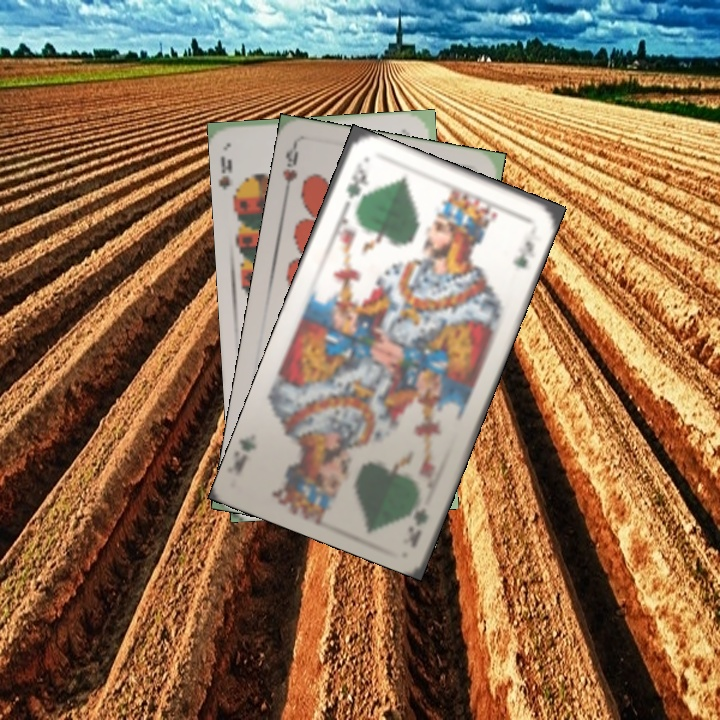GK: (341, 157, 369, 212), (405, 503, 431, 550)
H9: (278, 141, 301, 200)
S9: (217, 152, 245, 205)
